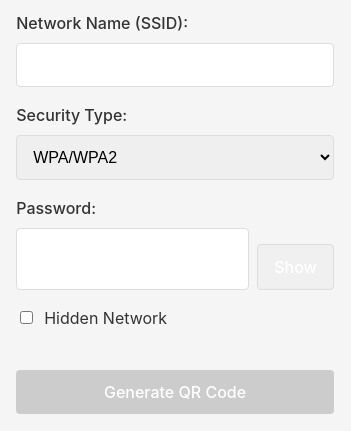
Scenario: WiFiForm › hides password field for open networks
Select "Open Network" in the dropdown labelled "Security Type:" at (175, 157), box [16, 134, 334, 180]
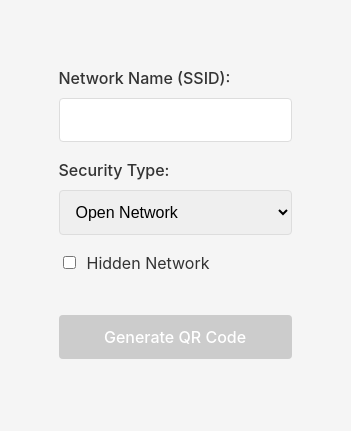
Expected: the label labelled "Password:" is gone
